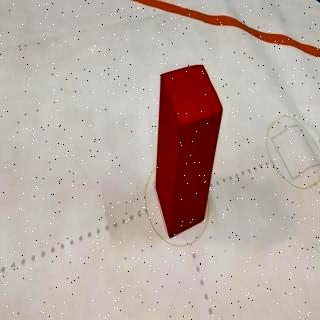redbox: (156, 62, 223, 238)
